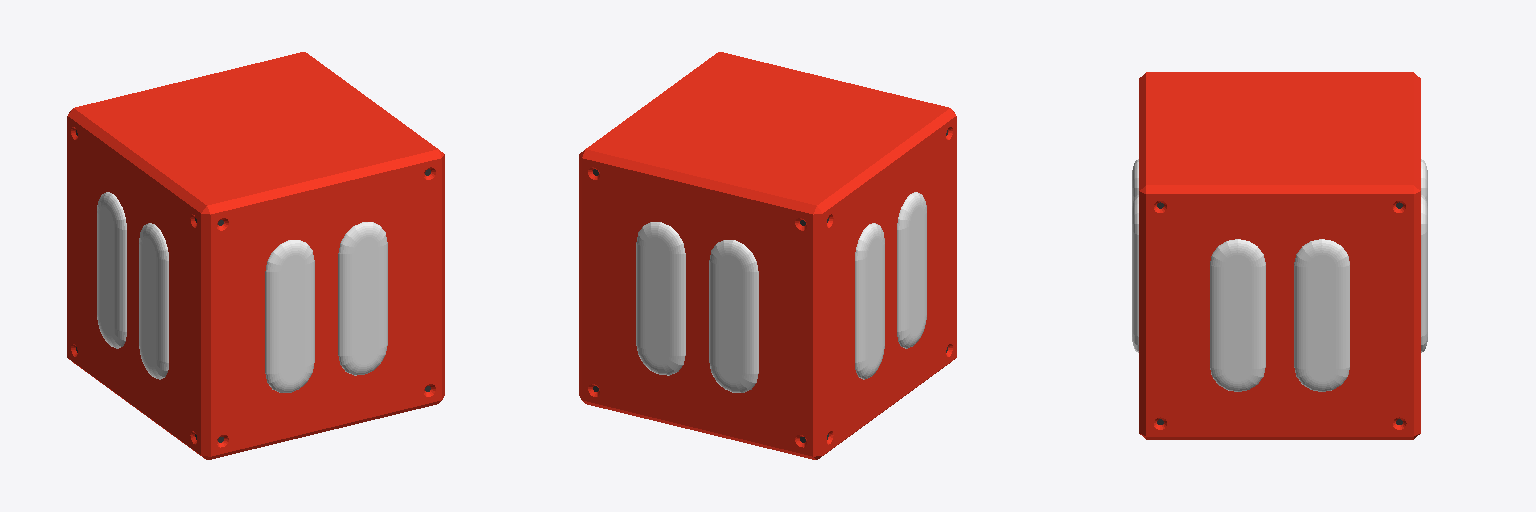
Rendered from Prop_Block_Pause.obj.
3 renders of one model, left to right at view 1: azimuth 30°, elevation 25°; view 2: azimuth 150°, elevation 25°; view 3: azimuth 270°, elevation 25°, orthographic.
Visible parts, largest first — view 1: Block, Symbol; view 2: Block, Symbol; view 3: Block, Symbol.
Part boxes in pixels (x1,y1,x2,y2): Block: (67, 52, 444, 459); Symbol: (97, 192, 387, 392); Block: (579, 52, 956, 459); Symbol: (636, 192, 926, 392); Block: (1139, 72, 1420, 439); Symbol: (1132, 159, 1427, 391).
Bounding box in the file's own units: 1.05 × 1 × 1.05.